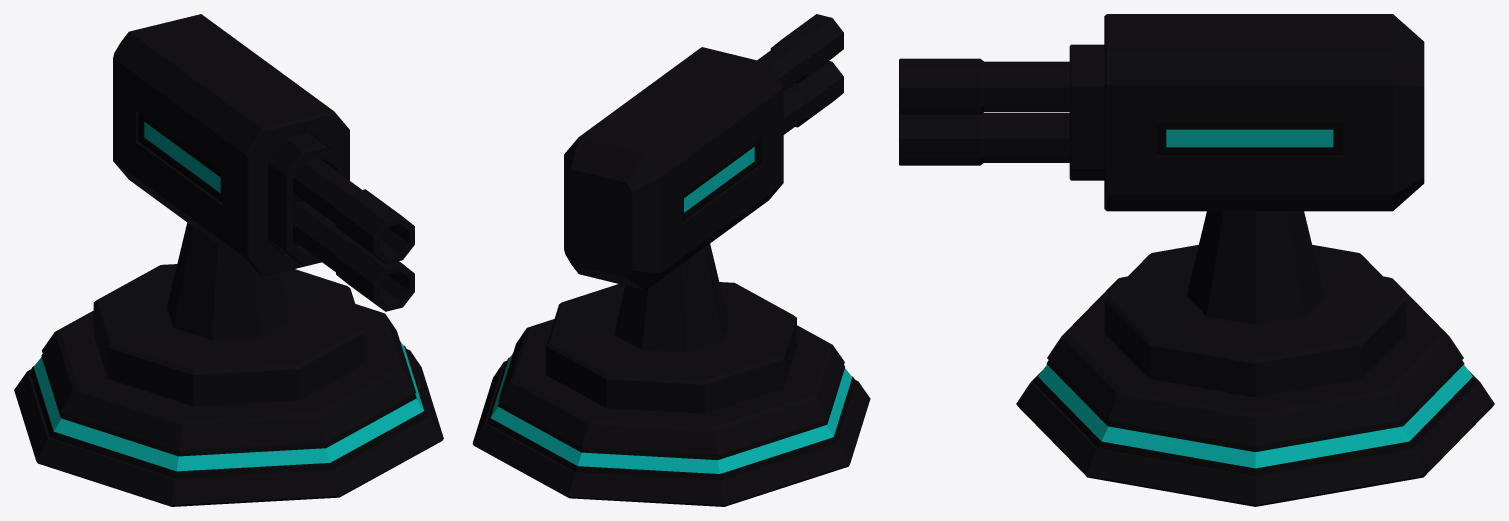
The model's file is SM_Tourelle.obj.
The picture shows the model from 3 angles, left to right: view 1: azimuth 30°, elevation 25°; view 2: azimuth 150°, elevation 25°; view 3: azimuth 270°, elevation 25°; orthographic projection. The views are drawn at different scales.
Parts seen in each view (by area): view 1: SM_Tourelle_Base, SM_Tourelle_Gun; view 2: SM_Tourelle_Base, SM_Tourelle_Gun; view 3: SM_Tourelle_Base, SM_Tourelle_Gun.
Part boxes in pixels (box(x1,y1,x2,y2)): SM_Tourelle_Base: box(14, 223, 443, 506); SM_Tourelle_Gun: box(113, 14, 414, 311); SM_Tourelle_Base: box(472, 244, 870, 506); SM_Tourelle_Gun: box(564, 14, 843, 290); SM_Tourelle_Base: box(1016, 211, 1494, 506); SM_Tourelle_Gun: box(899, 14, 1424, 211).
Size of the model in its own units: 1.1 by 0.9513 by 1.37.
